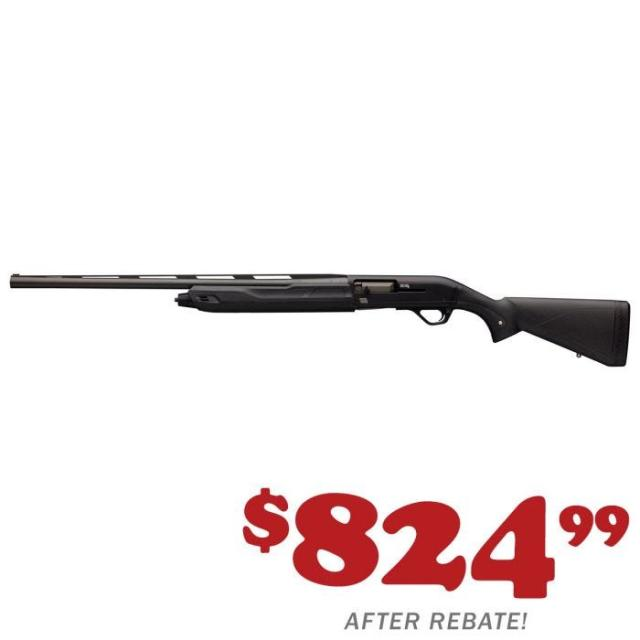ShotGun: (8, 273, 632, 369)
